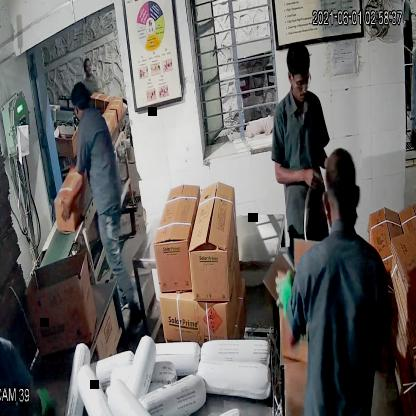goggles: (284, 69, 314, 93)
